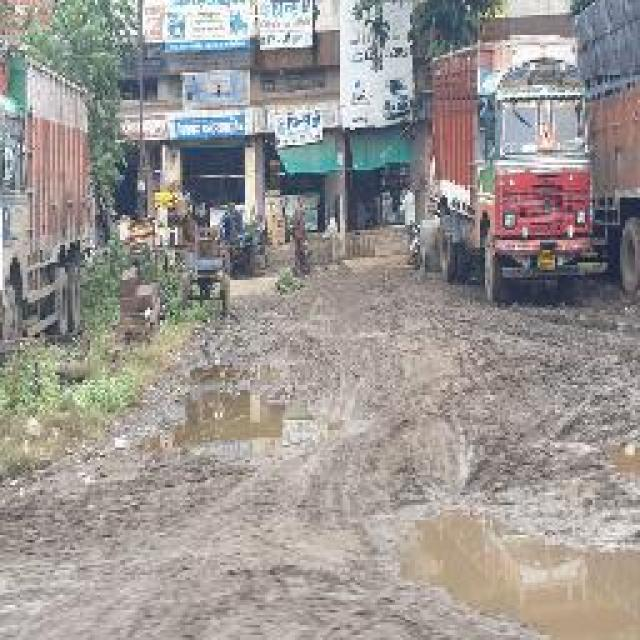stagnation: (390, 487, 640, 640), (178, 375, 297, 454)
